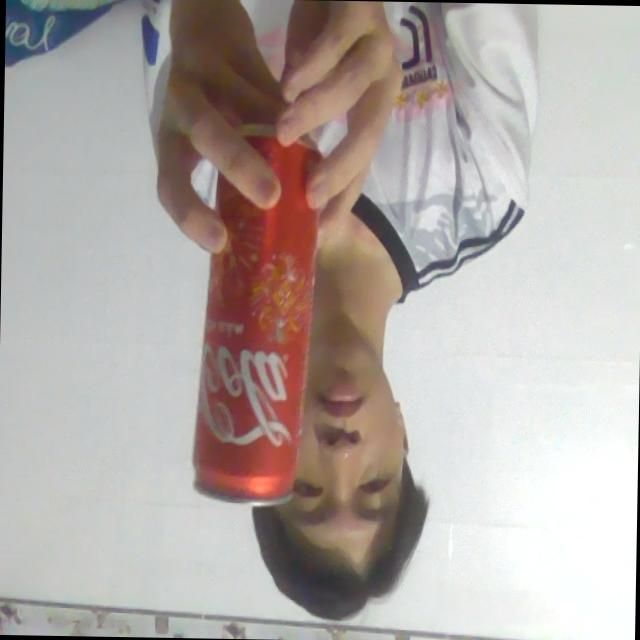cocacola: (186, 118, 343, 506)
